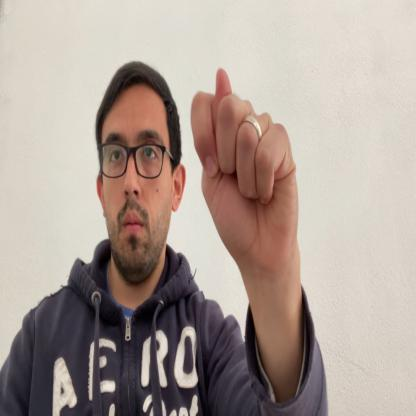T: (191, 67, 297, 261)
